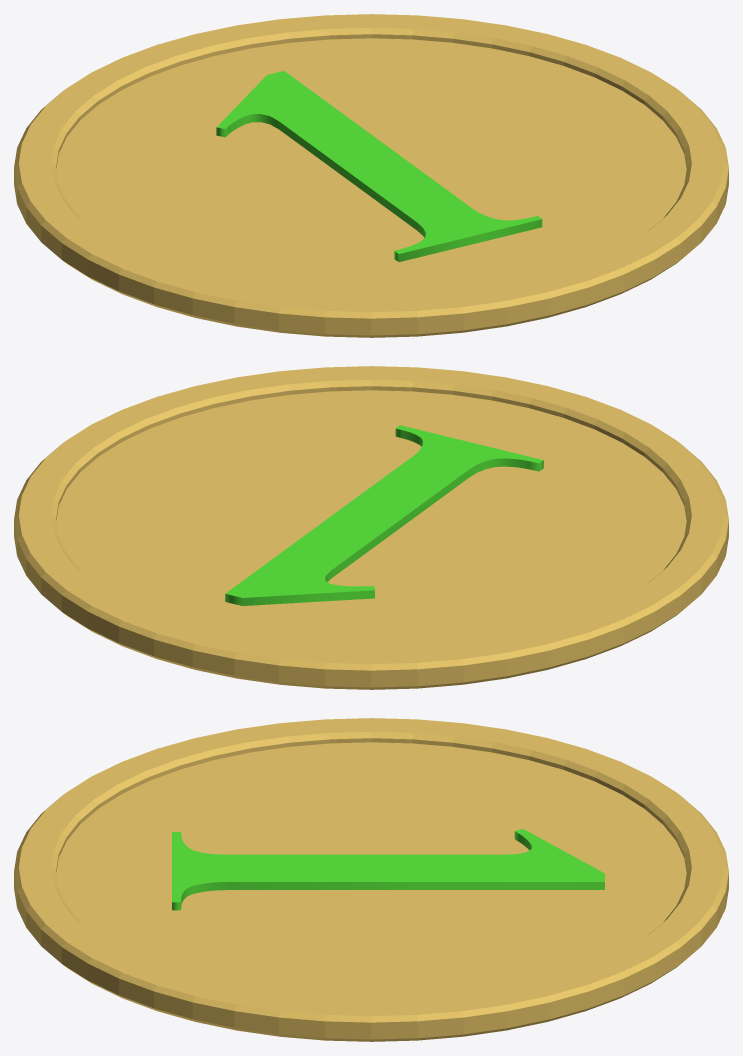
The model's file is coin4.fbx.
3 renders of one model, top to bottom at view 1: azimuth 30°, elevation 25°; view 2: azimuth 150°, elevation 25°; view 3: azimuth 270°, elevation 25°, orthographic.
Parts seen in each view (by area): view 1: Cylinder.001; view 2: Cylinder.001; view 3: Cylinder.001.
Part boxes in pixels (x1,y1,x2,y2): Cylinder.001: [14, 14, 728, 337]; Cylinder.001: [14, 366, 728, 689]; Cylinder.001: [14, 718, 728, 1041].
Size of the model in its own units: 324 by 12.86 by 324.
